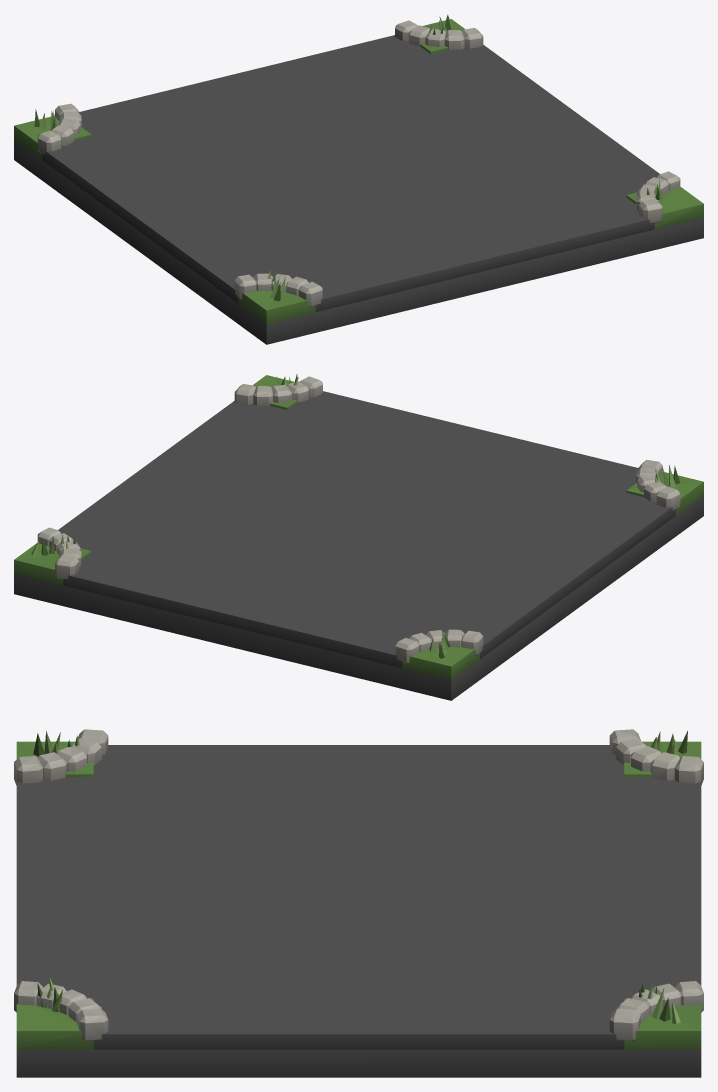
The model's file is street-4way.glb.
The picture shows the model from 3 angles, top to bottom: view 1: azimuth 30°, elevation 25°; view 2: azimuth 150°, elevation 25°; view 3: azimuth 270°, elevation 25°; orthographic projection. The views are drawn at different scales.
Visible parts, largest first — view 1: street_4way; view 2: street_4way; view 3: street_4way.
Part boxes in pixels (left/top/right/bottom): street_4way: left=14, top=14, right=703, bottom=344; street_4way: left=14, top=374, right=703, bottom=700; street_4way: left=14, top=729, right=703, bottom=1077.
Bounding box in the file's own units: 4.03 × 0.4775 × 4.03.
